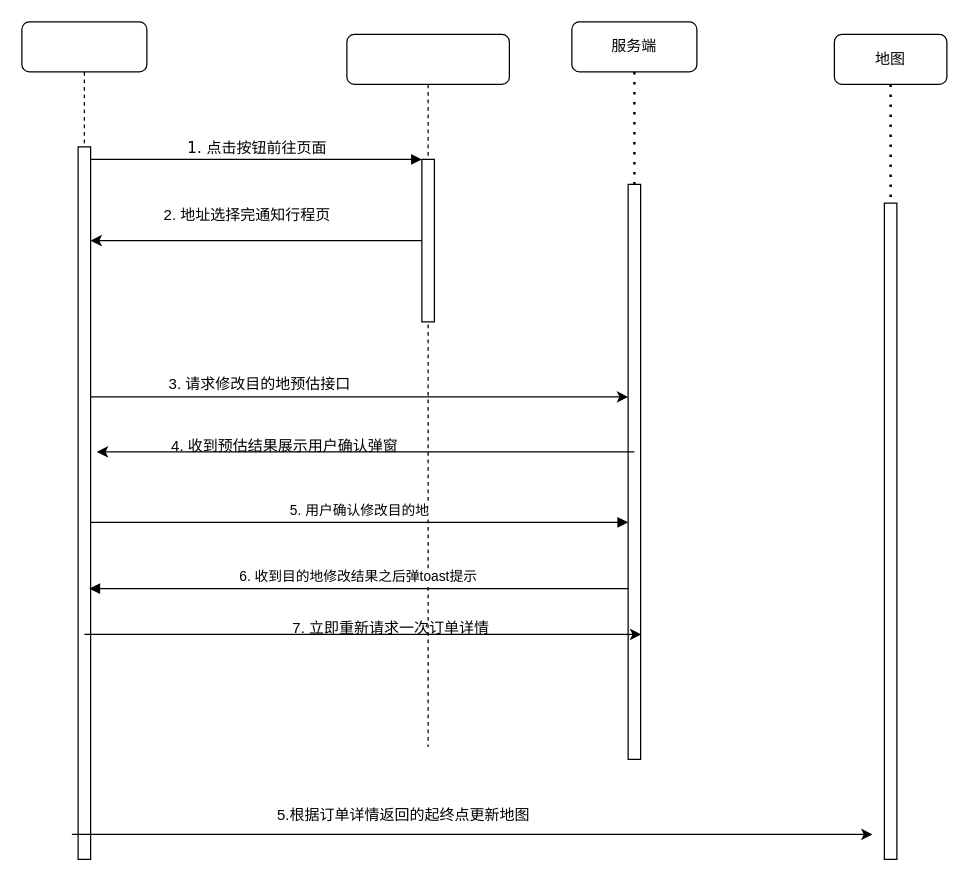
Some shapes in this 969 by 881 pixel diagram are drawn without their labels. Here are the shapes that lost their labels. From the top down, the box of each, then its label:
(346, 33, 509, 747): 地址选择页面
(21, 21, 147, 859): 行程中
